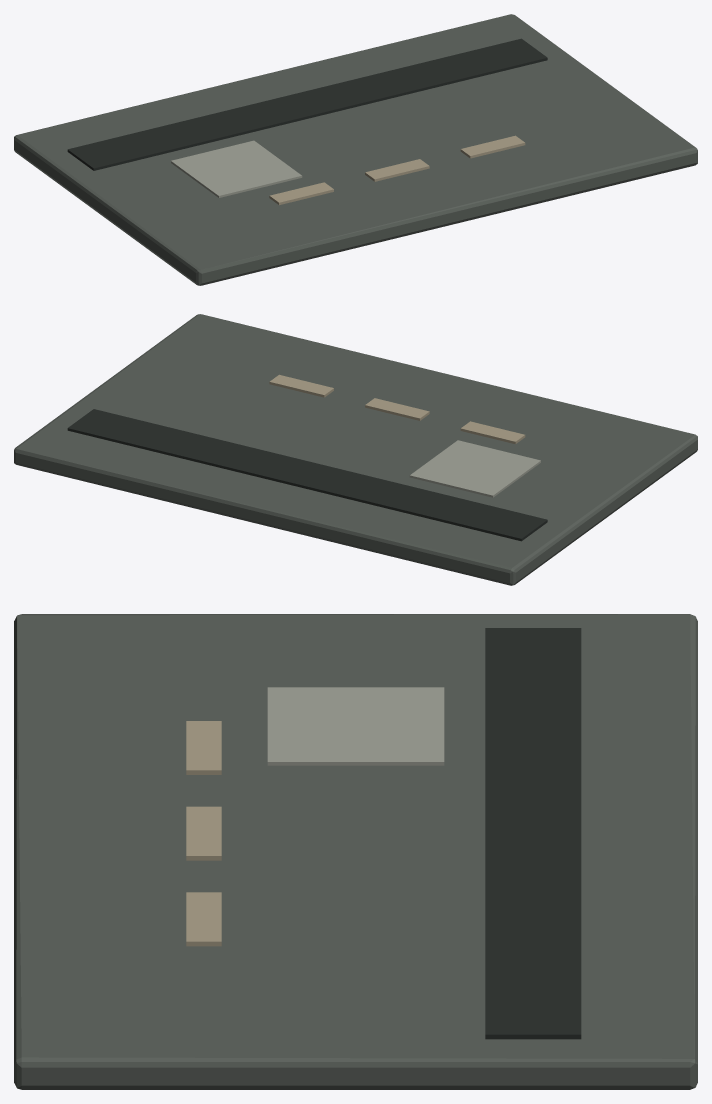
The model's file is security_card_low.glb.
3 views of the same model, one above another, from view 1: azimuth 30°, elevation 25°; view 2: azimuth 150°, elevation 25°; view 3: azimuth 270°, elevation 25° (orthographic). The views are drawn at different scales.
Parts seen in each view (by area): view 1: security_card.001; view 2: security_card.001; view 3: security_card.001.
Boxes of the visible parts, x1,y1,x2,y2 form: security_card.001: (14, 14, 697, 285); security_card.001: (14, 314, 697, 585); security_card.001: (14, 614, 697, 1089).
Size of the model in its own units: 0.21 by 0.008 by 0.135.
